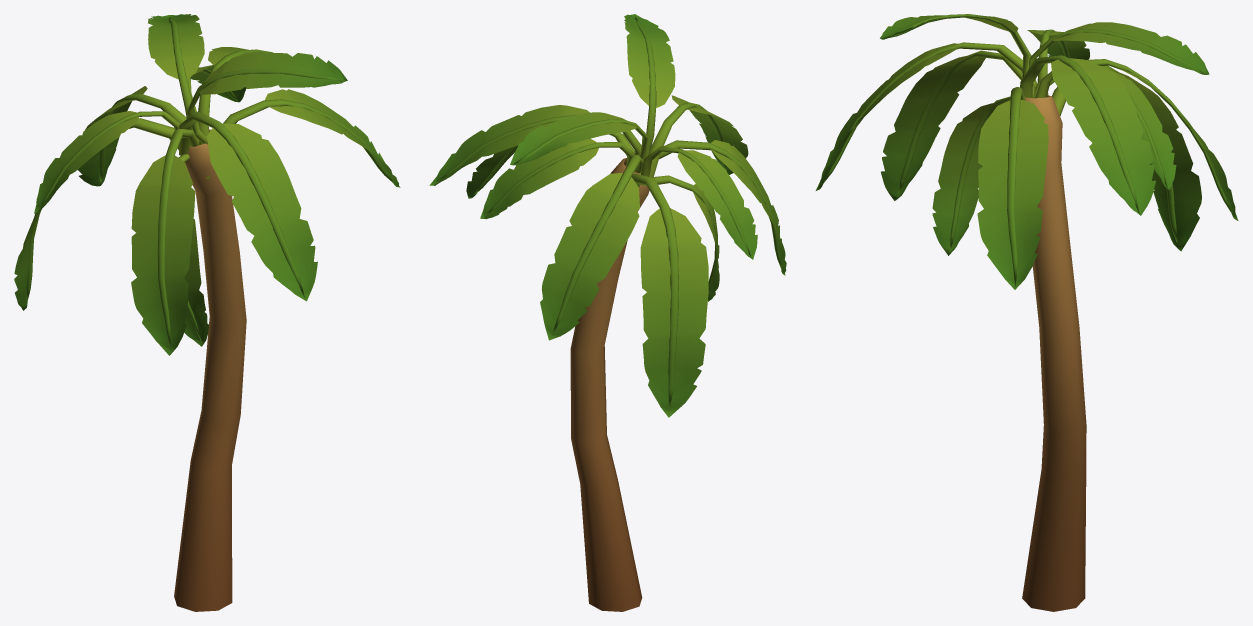
Rendered from MDL_E_CoconutTree_02.fbx.
3 renders of one model, left to right at view 1: azimuth 30°, elevation 25°; view 2: azimuth 150°, elevation 25°; view 3: azimuth 270°, elevation 25°, orthographic. The views are drawn at different scales.
Parts seen in each view (by area): view 1: Cylinder.006, Plane.062, Plane.063, Plane.067, Plane.071, Plane.072, Plane.066, Plane.073, Plane.069, Plane.065, Plane.070, Plane.064; view 2: Cylinder.006, Plane.065, Plane.073, Plane.064, Plane.067, Plane.072, Plane.070, Plane.071, Plane.063, Plane.062, Plane.069, Plane.066; view 3: Cylinder.006, Plane.066, Plane.070, Plane.063, Plane.069, Plane.065, Plane.071, Plane.062, Plane.064, Plane.073, Plane.067, Plane.072.
Part boxes in pixels (x1=…): Cylinder.006: x1=174, y1=129, x2=246, y2=611; Plane.062: x1=179, y1=111, x2=317, y2=301; Plane.063: x1=131, y1=128, x2=199, y2=355; Plane.067: x1=187, y1=52, x2=347, y2=144; Plane.071: x1=148, y1=14, x2=204, y2=129; Plane.072: x1=34, y1=111, x2=180, y2=213; Plane.066: x1=205, y1=89, x2=400, y2=187; Plane.073: x1=78, y1=86, x2=186, y2=186; Plane.069: x1=178, y1=154, x2=208, y2=346; Plane.065: x1=14, y1=118, x2=178, y2=310; Plane.070: x1=198, y1=47, x2=273, y2=144; Plane.064: x1=187, y1=65, x2=246, y2=111; Cylinder.006: x1=570, y1=158, x2=649, y2=611; Plane.065: x1=631, y1=173, x2=708, y2=417; Plane.073: x1=540, y1=154, x2=643, y2=340; Plane.064: x1=480, y1=138, x2=634, y2=219; Plane.067: x1=624, y1=14, x2=675, y2=157; Plane.072: x1=641, y1=146, x2=757, y2=259; Plane.070: x1=429, y1=105, x2=641, y2=185; Plane.071: x1=510, y1=112, x2=649, y2=173; Plane.063: x1=640, y1=140, x2=786, y2=275; Plane.062: x1=648, y1=95, x2=748, y2=178; Plane.069: x1=653, y1=175, x2=719, y2=301; Plane.066: x1=466, y1=132, x2=634, y2=198; Cylinder.006: x1=1022, y1=95, x2=1086, y2=611; Plane.066: x1=977, y1=87, x2=1048, y2=289; Plane.070: x1=1020, y1=55, x2=1155, y2=215; Plane.063: x1=881, y1=50, x2=1036, y2=200; Plane.069: x1=932, y1=96, x2=1010, y2=255; Plane.065: x1=1051, y1=65, x2=1201, y2=251; Plane.071: x1=1028, y1=22, x2=1209, y2=97; Plane.062: x1=815, y1=42, x2=1036, y2=190; Plane.064: x1=1035, y1=67, x2=1176, y2=189; Plane.073: x1=1033, y1=59, x2=1238, y2=220; Plane.067: x1=880, y1=14, x2=1031, y2=97; Plane.072: x1=1027, y1=29, x2=1089, y2=97.
Size of the model in its own units: 382 by 621 by 395.
